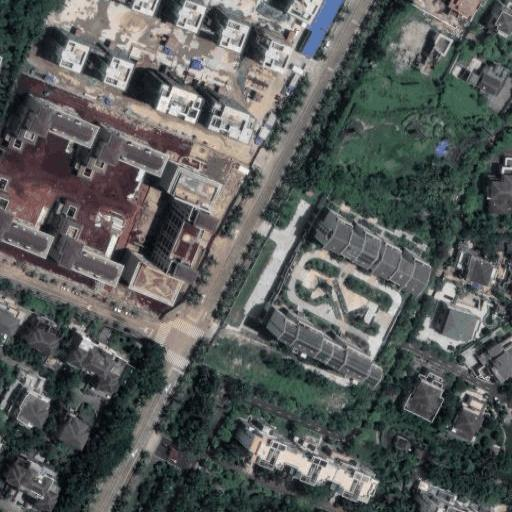building: (229, 424, 357, 495), (312, 205, 420, 282), (260, 306, 364, 374), (47, 203, 116, 278), (80, 121, 158, 179), (7, 92, 83, 147), (155, 190, 202, 269), (70, 337, 129, 397), (158, 153, 213, 198), (118, 250, 174, 293), (418, 483, 500, 512), (9, 457, 55, 499), (186, 85, 234, 125), (136, 67, 183, 107), (403, 378, 443, 422), (451, 395, 488, 441), (465, 60, 509, 96), (274, 186, 310, 229), (484, 161, 512, 211), (5, 386, 39, 424), (308, 0, 343, 36), (432, 299, 469, 333), (418, 30, 445, 72), (208, 4, 240, 38), (457, 252, 492, 282), (58, 418, 90, 450), (28, 321, 59, 354), (88, 45, 118, 77), (249, 25, 279, 57), (483, 0, 512, 32), (44, 28, 73, 60), (302, 30, 326, 60), (429, 273, 455, 300), (39, 483, 62, 512), (0, 303, 19, 335), (162, 0, 189, 18)
